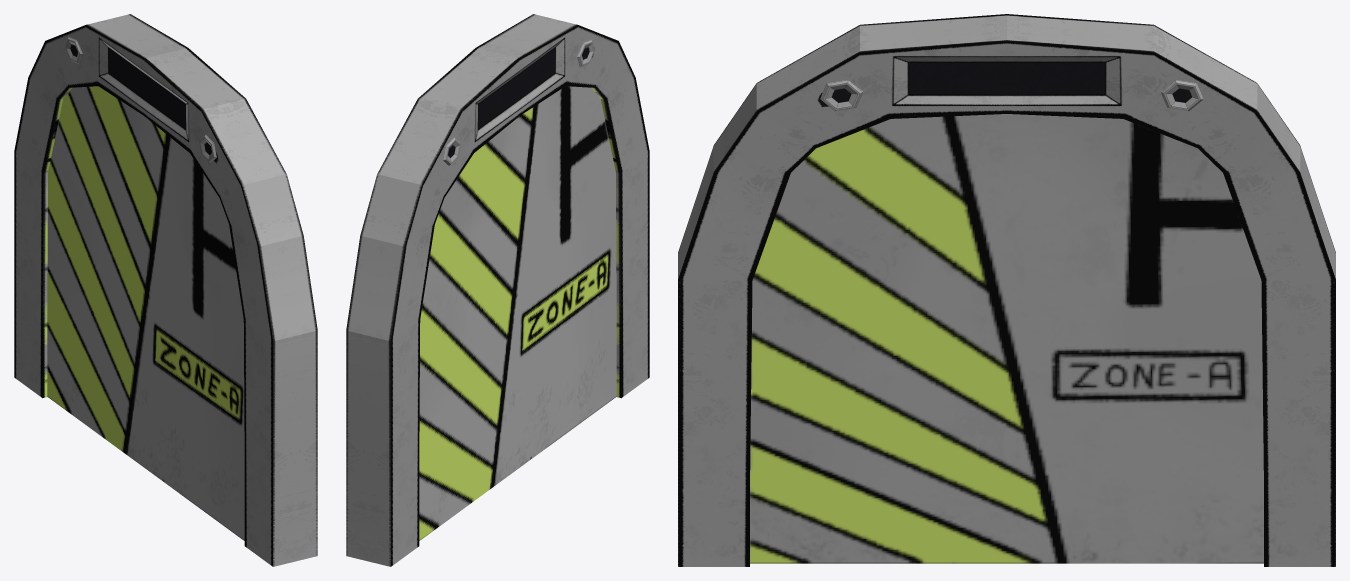
Rendered from Double Door 2.fbx.
3 renders of one model, left to right at view 1: azimuth 30°, elevation 25°; view 2: azimuth 150°, elevation 25°; view 3: azimuth 270°, elevation 25°, orthographic. The views are drawn at different scales.
Visible parts, largest first — view 1: Cadre de porte, Porte Droite.001, Porte Gauche.001, Lumiere; view 2: Cadre de porte, Porte Gauche.001, Porte Droite.001, Lumiere; view 3: Cadre de porte, Porte Gauche.001, Porte Droite.001, Lumiere.
Boxes of the visible parts, x1,y1,x2,y2 form: Cadre de porte: (14,14,317,566); Porte Droite.001: (47,86,168,454); Porte Gauche.001: (126,136,244,540); Lumiere: (65,36,216,162); Cadre de porte: (346,14,649,566); Porte Gauche.001: (494,86,616,486); Porte Droite.001: (419,105,535,540); Lumiere: (443,39,594,165); Cadre de porte: (678,14,1335,566); Porte Gauche.001: (750,116,1062,563); Porte Droite.001: (955,114,1263,563); Lumiere: (820,80,1203,111).
Bounding box in the file's own units: 37.07 × 300 × 341.
1 material, 1 textured.
